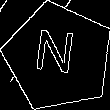N_S: (35, 30, 81, 85)
